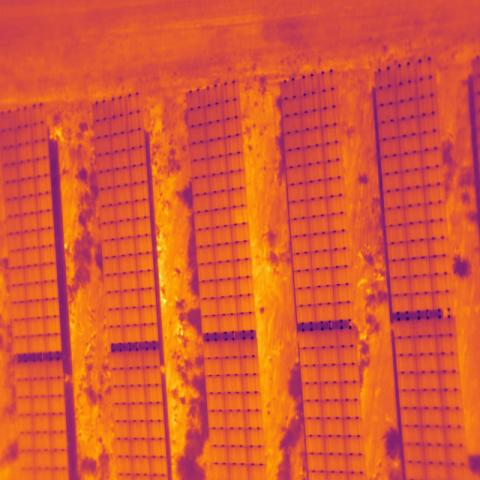fault: (229, 206, 249, 226)
